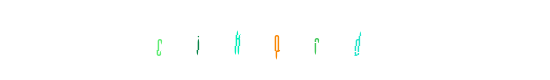C: (182, 0, 262, 80)
D: (254, 0, 334, 80)
I: (219, 0, 299, 80)
K: (235, 0, 315, 80)
P: (236, 0, 316, 80)
R: (237, 0, 317, 80)
